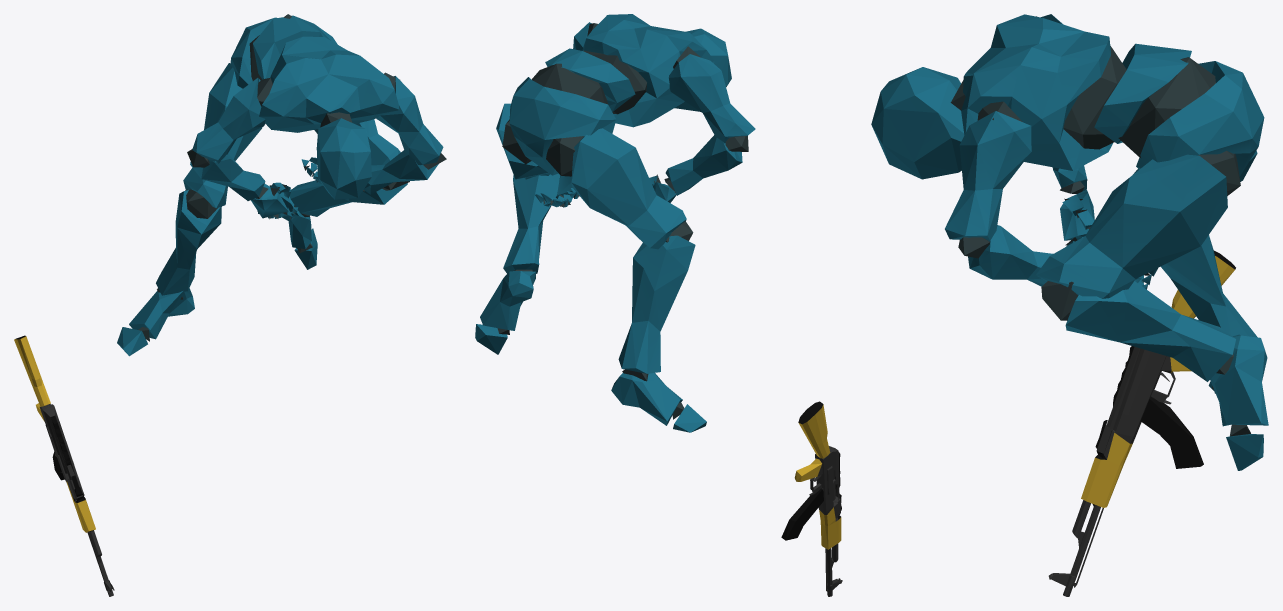
File: EnemyDying_000073.obj
3 renders of one model, left to right at view 1: azimuth 30°, elevation 25°; view 2: azimuth 150°, elevation 25°; view 3: azimuth 270°, elevation 25°, orthographic. The views are drawn at different scales.
Parts seen in each view (by area): view 1: Alpha_Surface, AK-47_Cube, Alpha_Joints; view 2: Alpha_Surface, Alpha_Joints, AK-47_Cube; view 3: Alpha_Surface, AK-47_Cube, Alpha_Joints.
Boxes of the visible parts, <box> form: Alpha_Surface: <box>117,15,443,356</box>; AK-47_Cube: <box>14,335,114,596</box>; Alpha_Joints: <box>138,14,446,341</box>; Alpha_Surface: <box>475,14,755,432</box>; Alpha_Joints: <box>497,23,748,419</box>; AK-47_Cube: <box>781,401,842,596</box>; Alpha_Surface: <box>871,14,1268,470</box>; AK-47_Cube: <box>1048,250,1235,596</box>; Alpha_Joints: <box>950,16,1250,436</box>.
Bounding box in the file's own units: 238 × 331 × 172.
